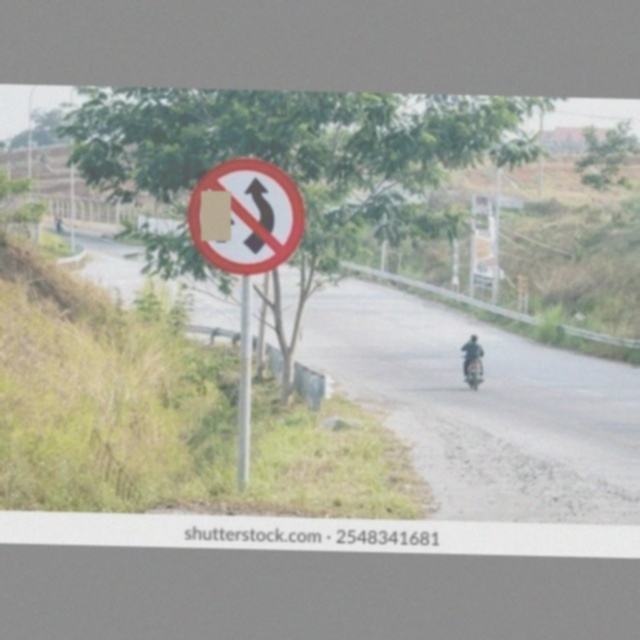Overtaking_Prohibited: (190, 155, 304, 275)
